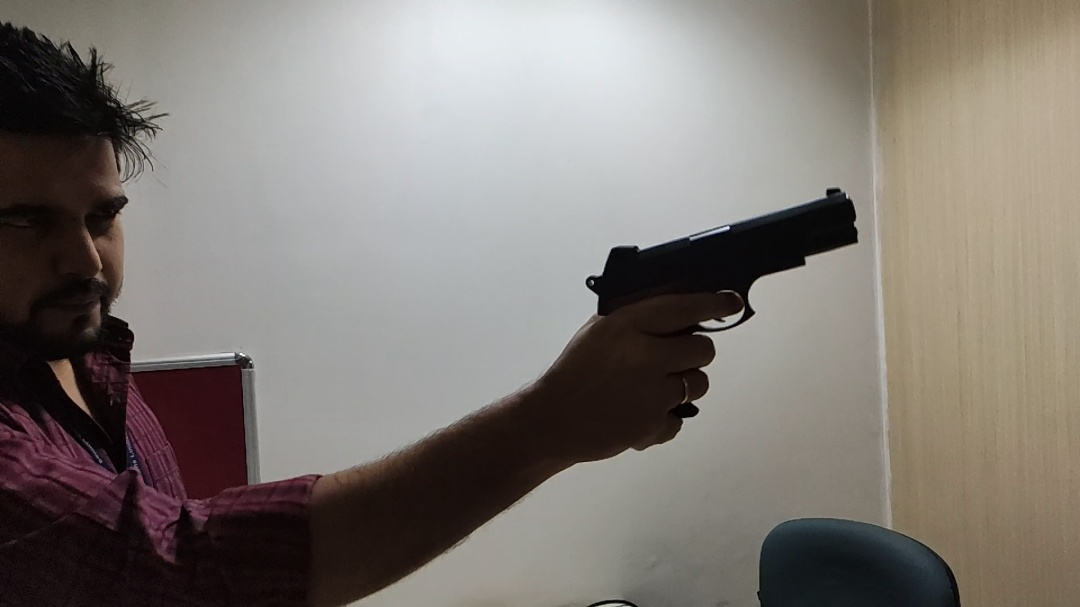gun: (583, 186, 863, 420)
